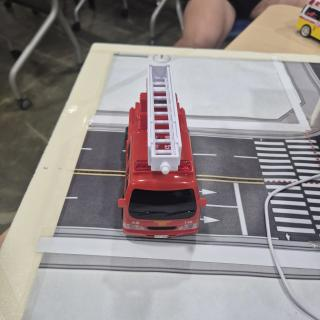Fire_truck: (118, 63, 207, 239)
